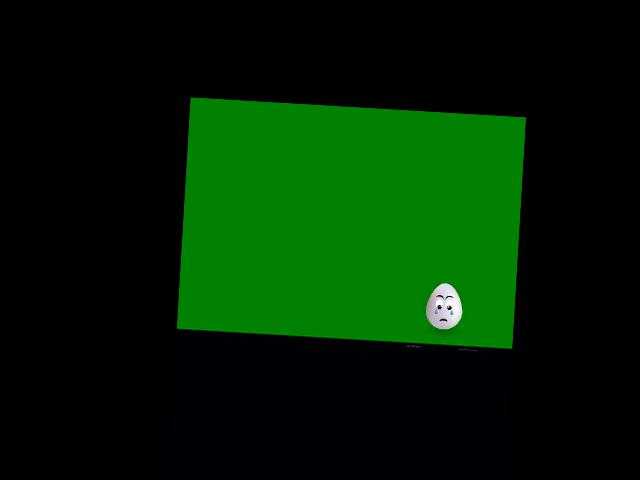egg: (424, 282, 464, 330)
